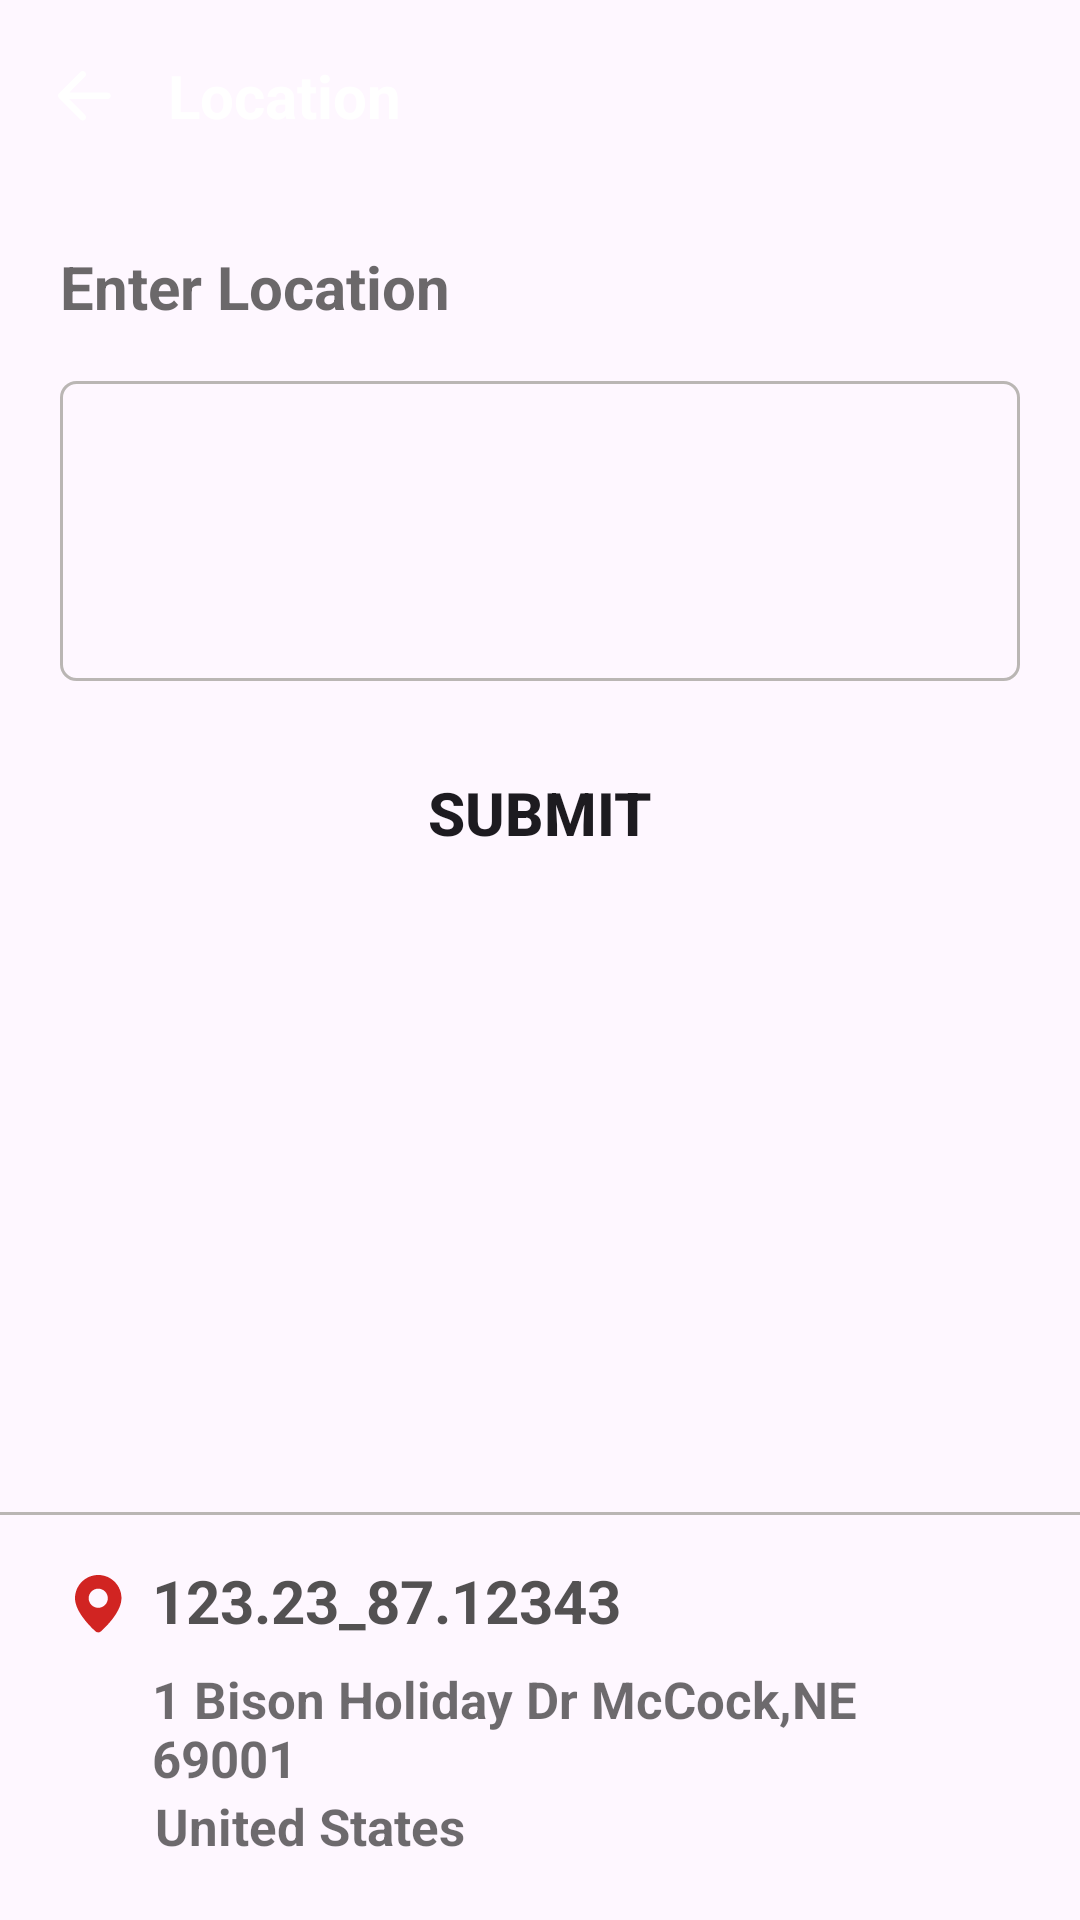

Icons on this 1080*1920 Android screen, each with the point to tap as (x,y):
location: (98,1604)
